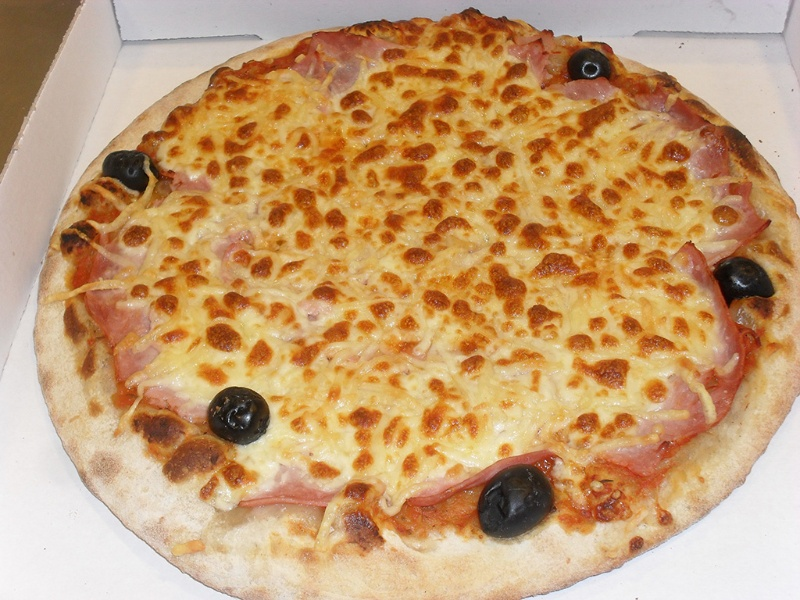olive noir: (478, 468, 547, 536), (203, 385, 273, 443), (714, 248, 777, 302), (103, 144, 166, 188), (569, 47, 618, 84)
